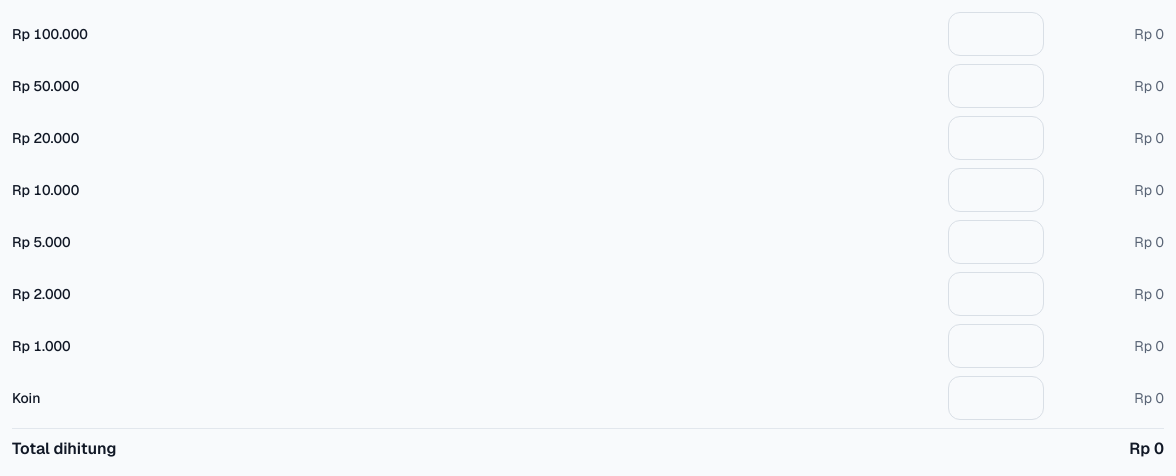
Test: DenominationCounter (15 · UX-02) › takes digits only
Type "1a-.5" into the field named "Lembar Rp 10.000".
click(996, 190); type("1a-.5")  # box 948,168 -> 1044,212
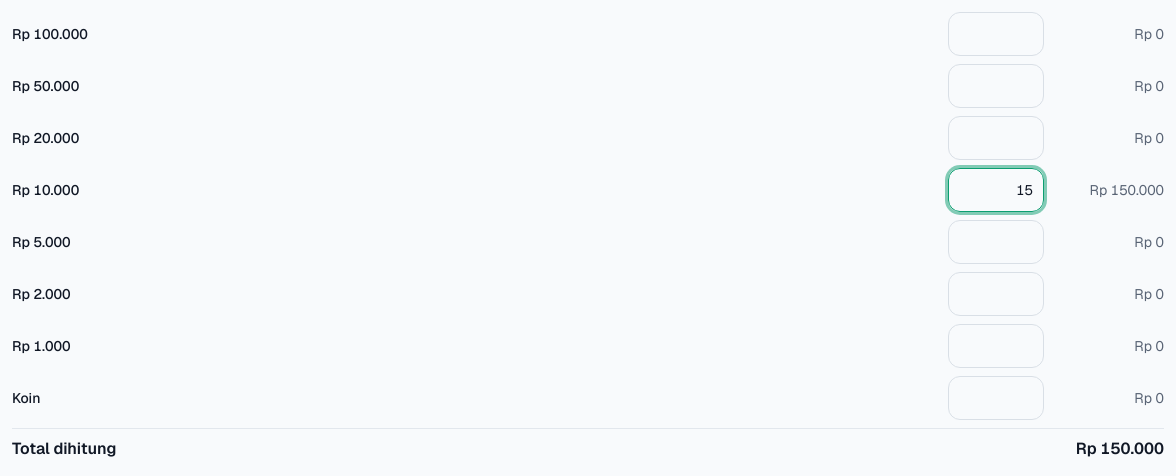
Now the field named "Lembar Rp 10.000" holds "15", box 948,168 -> 1044,212
Now the message "Total dihitung" shows "Rp 150.000", box 1076,438 -> 1164,459
